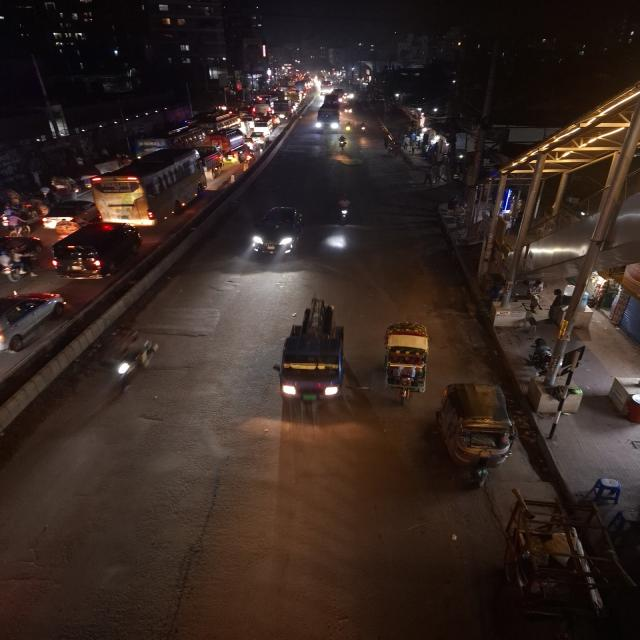bus: (92, 146, 211, 226), (315, 94, 343, 134)
car: (48, 222, 143, 281), (1, 290, 68, 356), (247, 203, 306, 260), (38, 199, 96, 227), (212, 127, 247, 149), (252, 116, 276, 134), (249, 128, 271, 140)
cng: (438, 379, 518, 489)
motorcycle: (4, 234, 42, 282), (331, 193, 356, 226), (237, 144, 255, 166), (336, 134, 350, 152), (223, 146, 237, 164), (252, 138, 266, 156), (359, 121, 369, 135), (345, 120, 354, 134)
pickup_van: (270, 296, 354, 412)
rickshaw: (378, 320, 435, 404)
